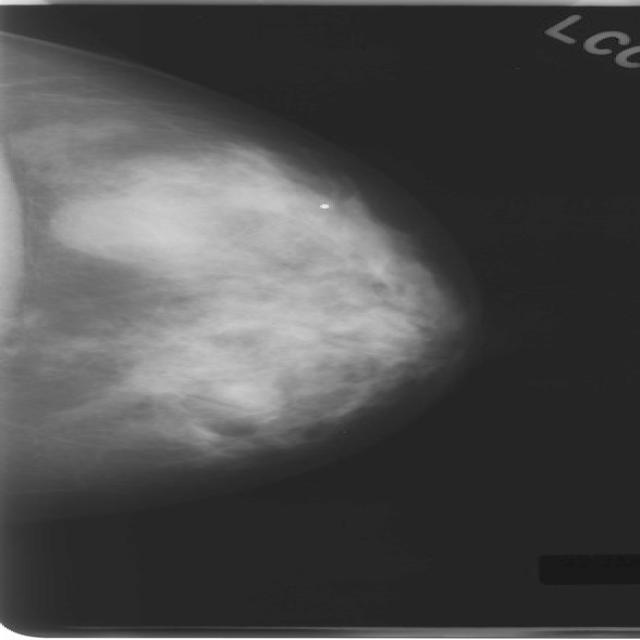tumour: (50, 195, 224, 260)
